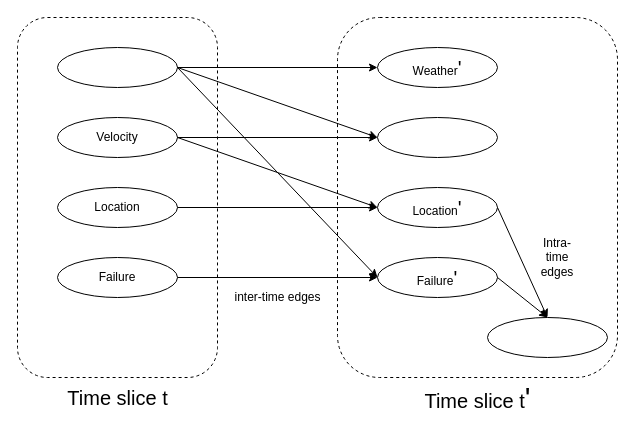
Image size: 635x433. Some labels were removed from this diagram. Here are the shapes that lost their labels. From the top down, the centre of each, then its label:
point 117,67: Weather
point 437,137: Velocity '
point 547,337: Observation '
